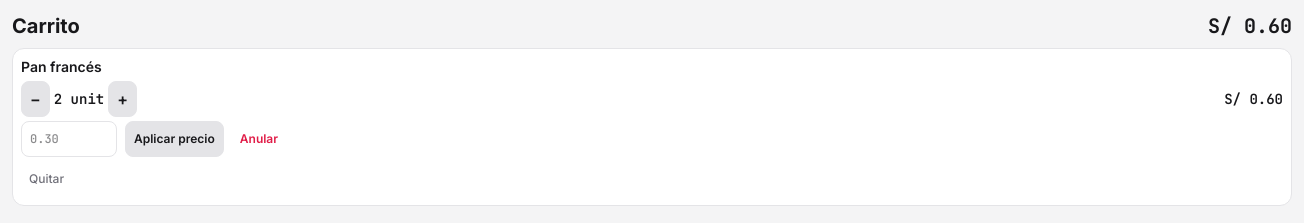
Scenario: CartPanel › annuls a line visibly without paying for it any more
Expected: the text "Pan francés" is shown, [21,57,102,77]
Expected: the element with test id "cart-total" reads "S/ 0.60", [1208,13,1292,39]
Click the button with aria-label "Anular Pan francés": [259, 139] box [232,121,286,157]
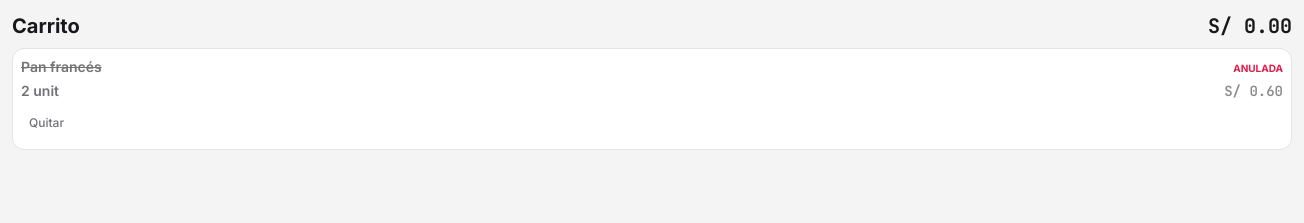
Expected: the text "Anulada" is shown, [1233,62,1283,74]
Expected: the element with test id "cart-total" reads "S/ 0.00", [1208,13,1292,39]
